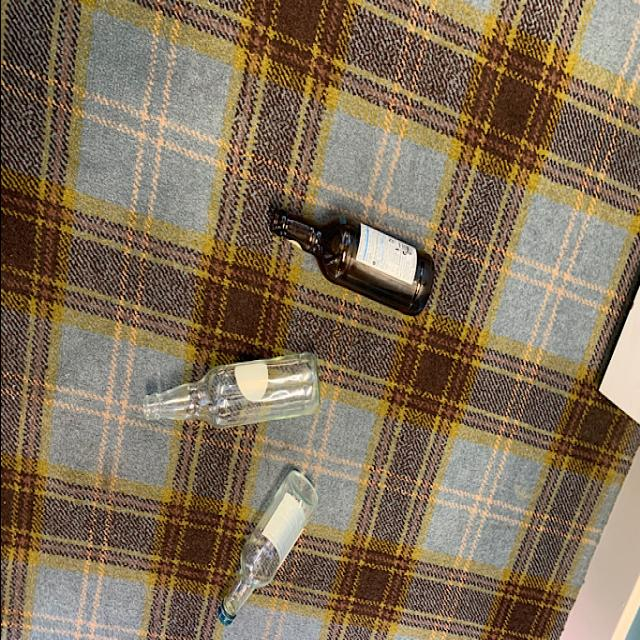Glass Bottle: (264, 206, 438, 316), (210, 468, 316, 628), (140, 347, 322, 438)
